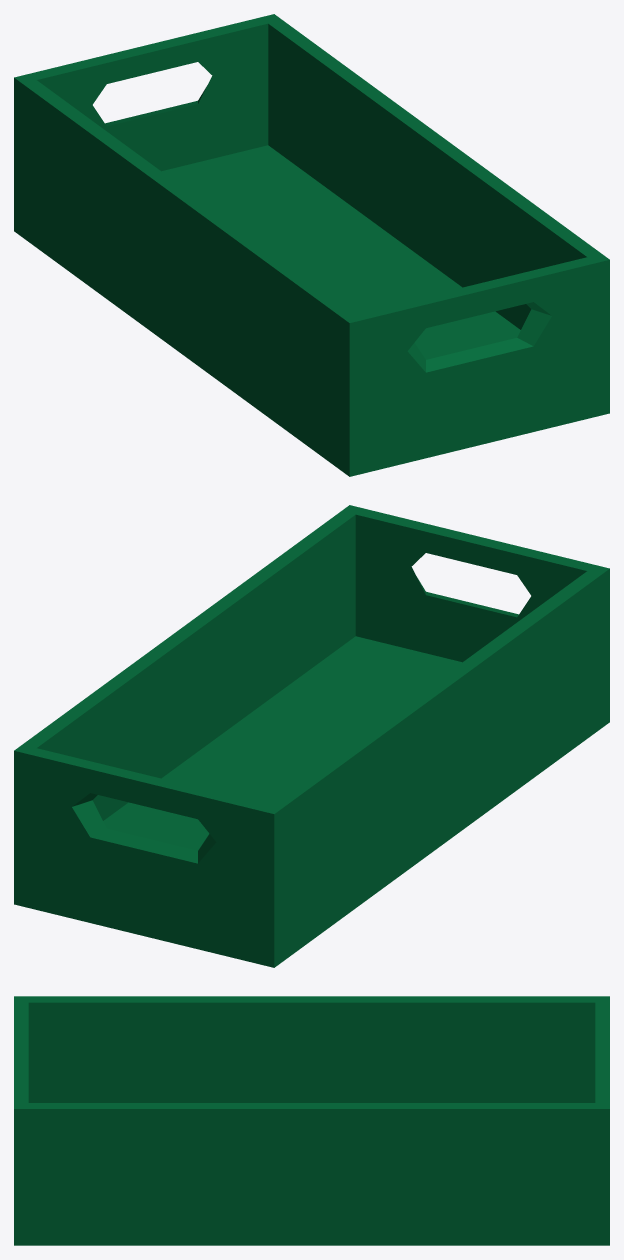
The model's file is SM_box_wgrips_03.fbx.
The picture shows the model from 3 angles, top to bottom: view 1: azimuth 30°, elevation 25°; view 2: azimuth 150°, elevation 25°; view 3: azimuth 270°, elevation 25°; orthographic projection. The views are drawn at different scales.
Visible parts, largest first — view 1: box_wgrips_03; view 2: box_wgrips_03; view 3: box_wgrips_03.
Part boxes in pixels (x1=…): box_wgrips_03: x1=14, y1=14, x2=609, y2=476; box_wgrips_03: x1=14, y1=505, x2=609, y2=967; box_wgrips_03: x1=14, y1=996, x2=609, y2=1245.
Bounding box in the file's own units: 81.07 × 45.75 × 181.
